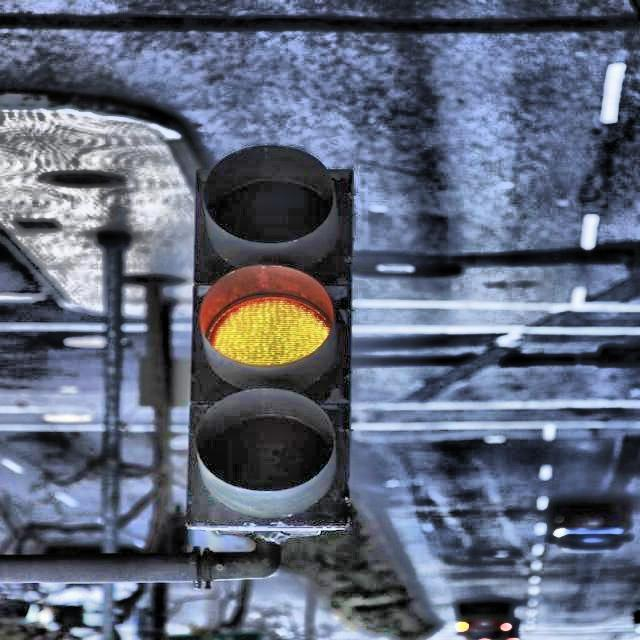yellow: (181, 132, 357, 532)
